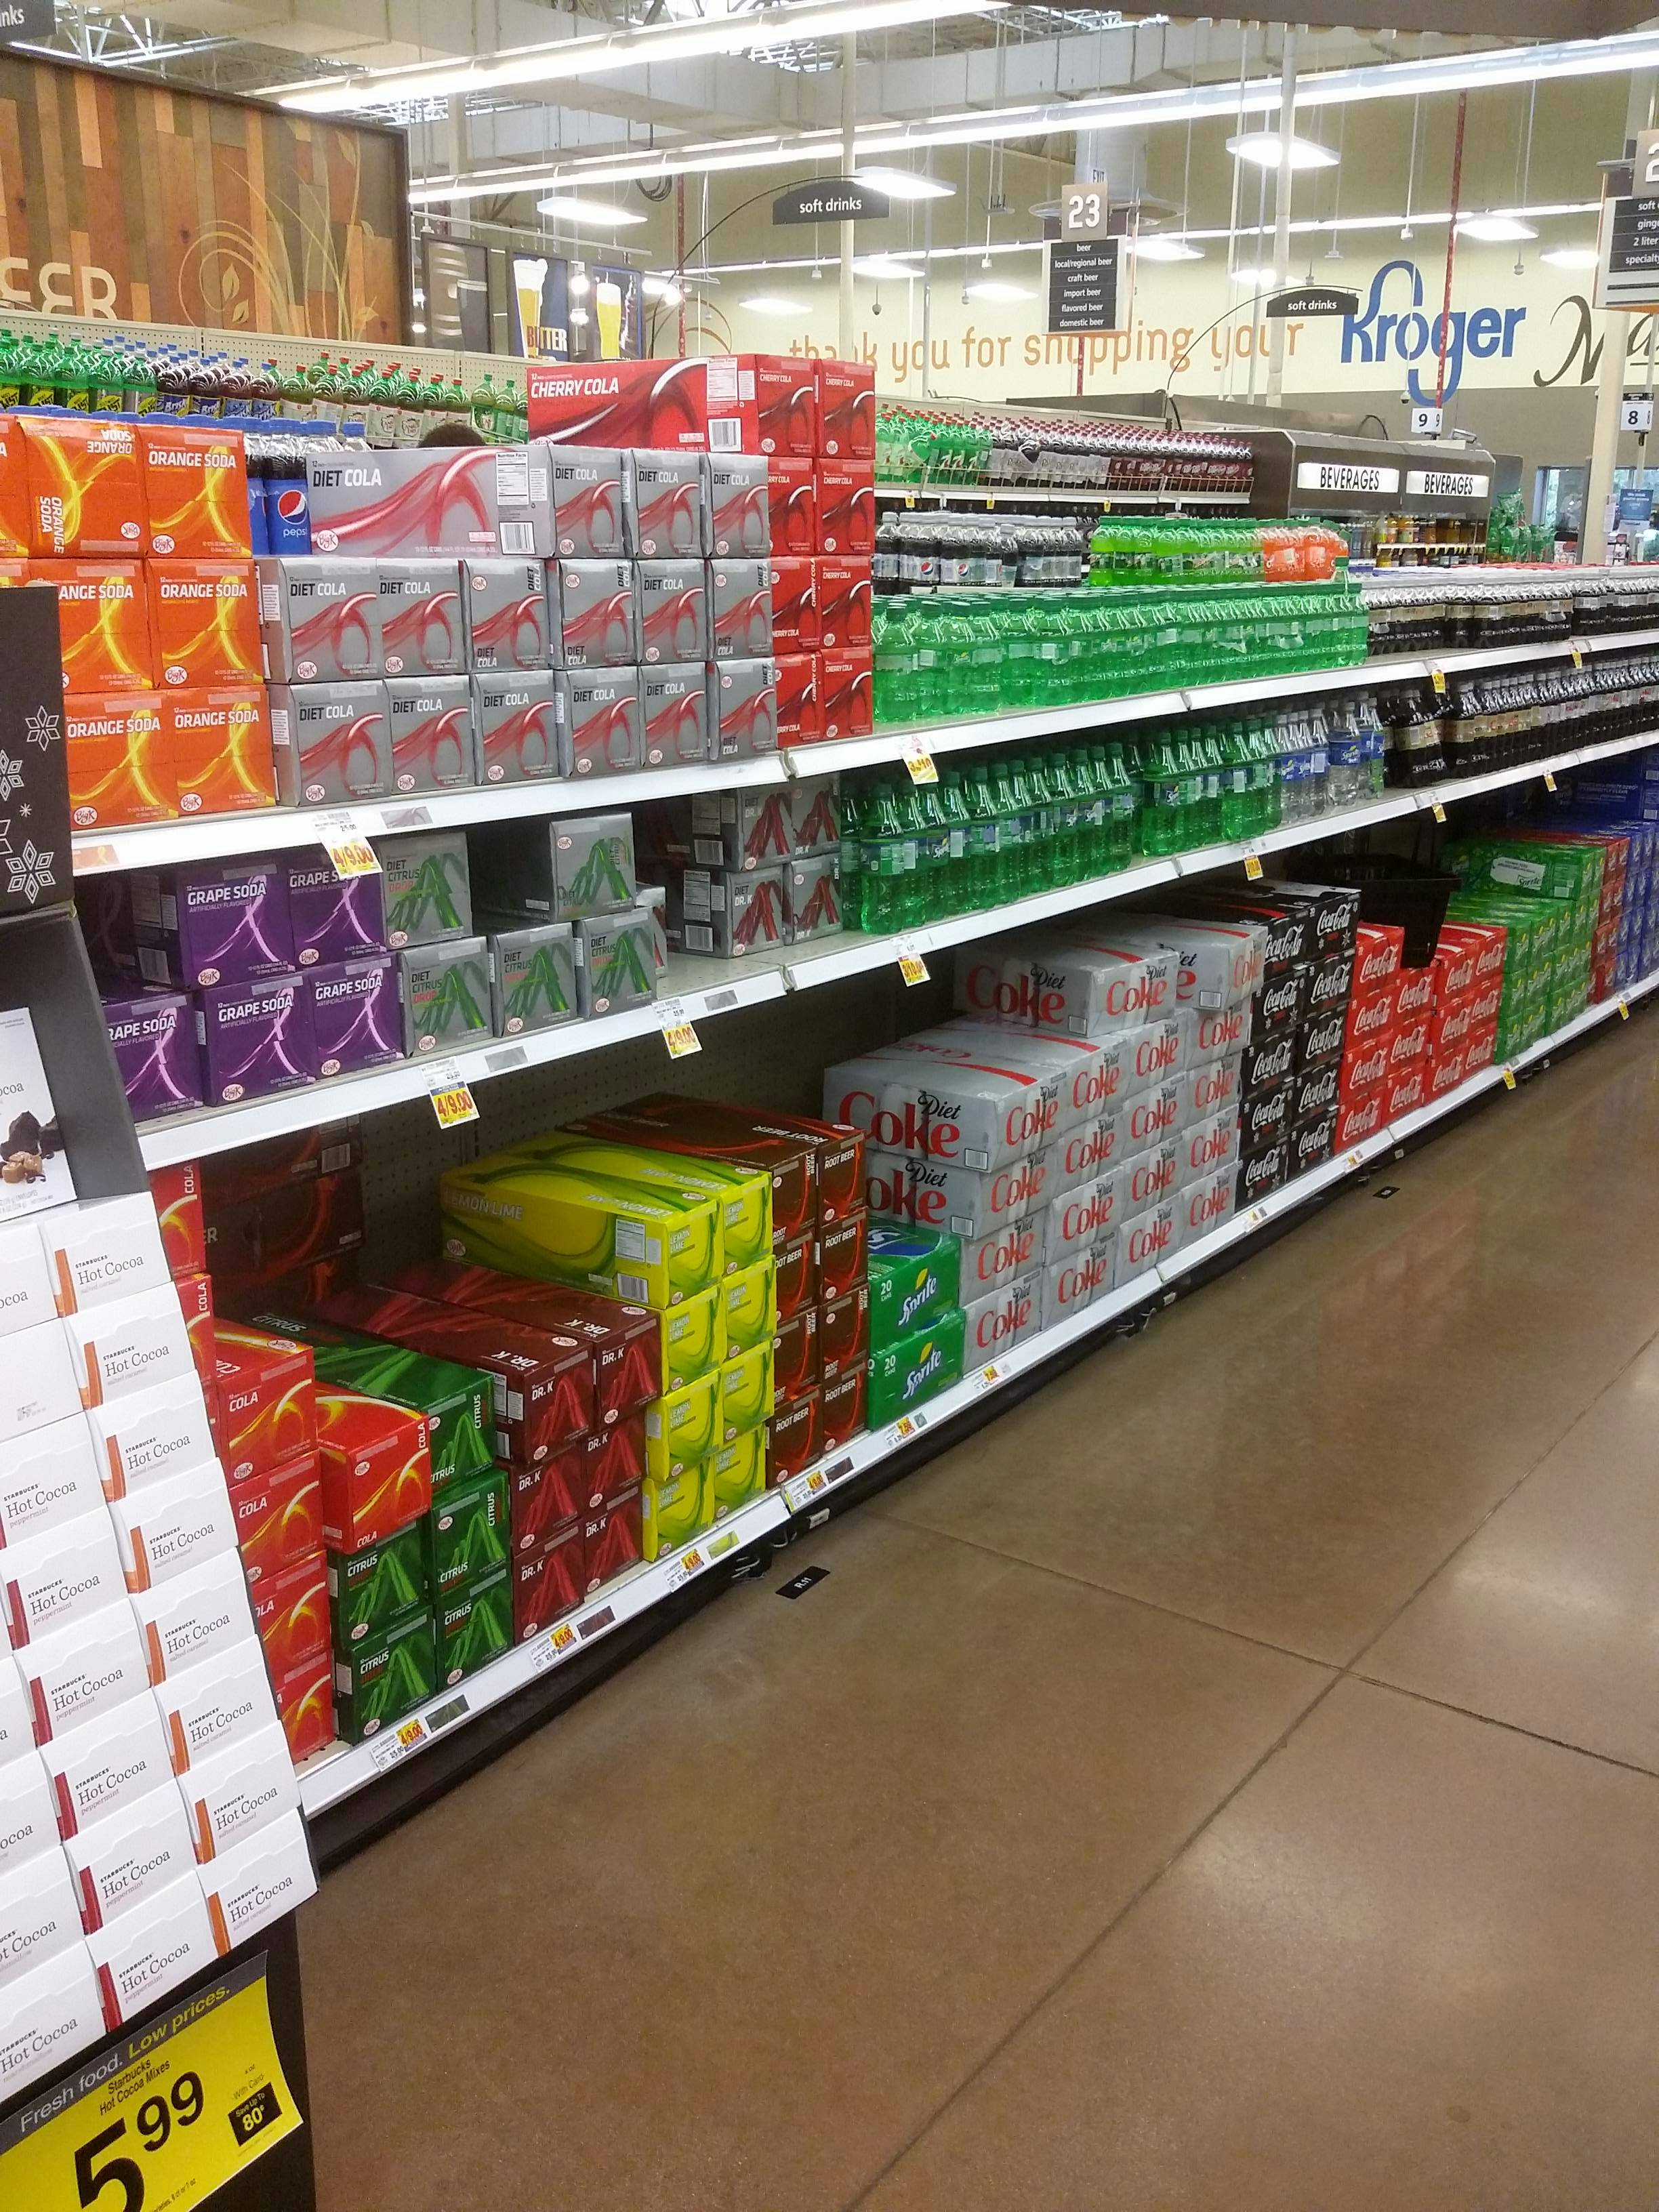Misplacement: (190, 1139, 664, 1658), (244, 434, 563, 819), (734, 786, 880, 972), (483, 822, 579, 1057)
